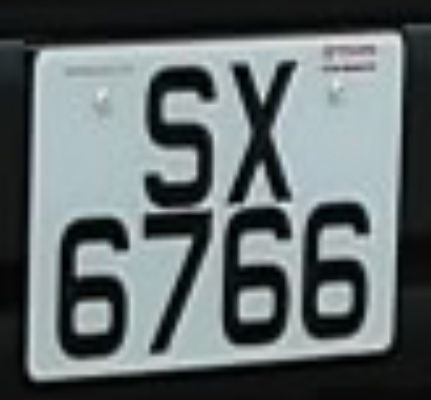6: (44, 206, 140, 371), (292, 188, 380, 353), (212, 201, 299, 354)
7: (134, 204, 220, 364)
S: (124, 54, 226, 215)
X: (220, 46, 309, 215)
